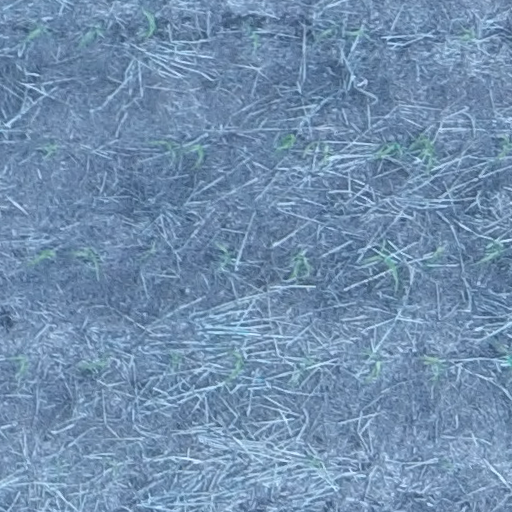planta: (360, 256, 397, 292), (408, 137, 433, 171), (224, 348, 247, 382), (474, 238, 504, 264), (180, 144, 205, 170), (150, 141, 177, 165), (374, 141, 407, 160), (363, 350, 381, 384), (289, 250, 310, 277), (27, 247, 56, 265), (140, 9, 158, 37), (79, 27, 104, 47), (213, 241, 231, 268), (274, 132, 297, 152), (24, 22, 47, 41), (423, 357, 441, 380), (82, 355, 106, 371), (37, 143, 56, 160), (13, 355, 28, 374), (459, 26, 476, 41)
